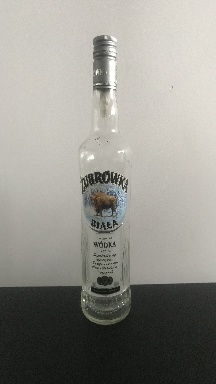butelka: (76, 31, 132, 328)
